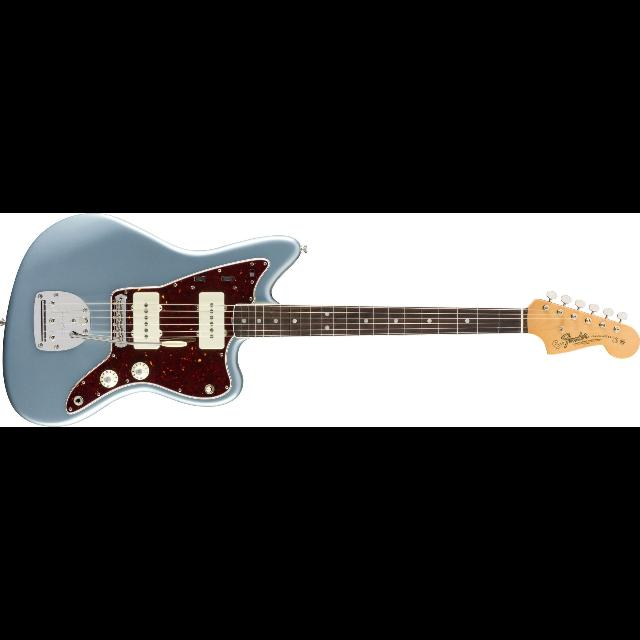Electric-Guitar: (0, 213, 640, 427)
